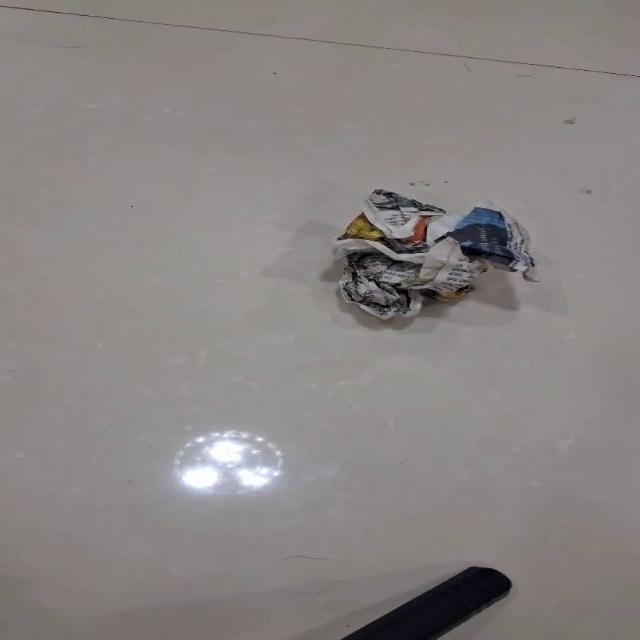paper: (332, 187, 540, 320)
